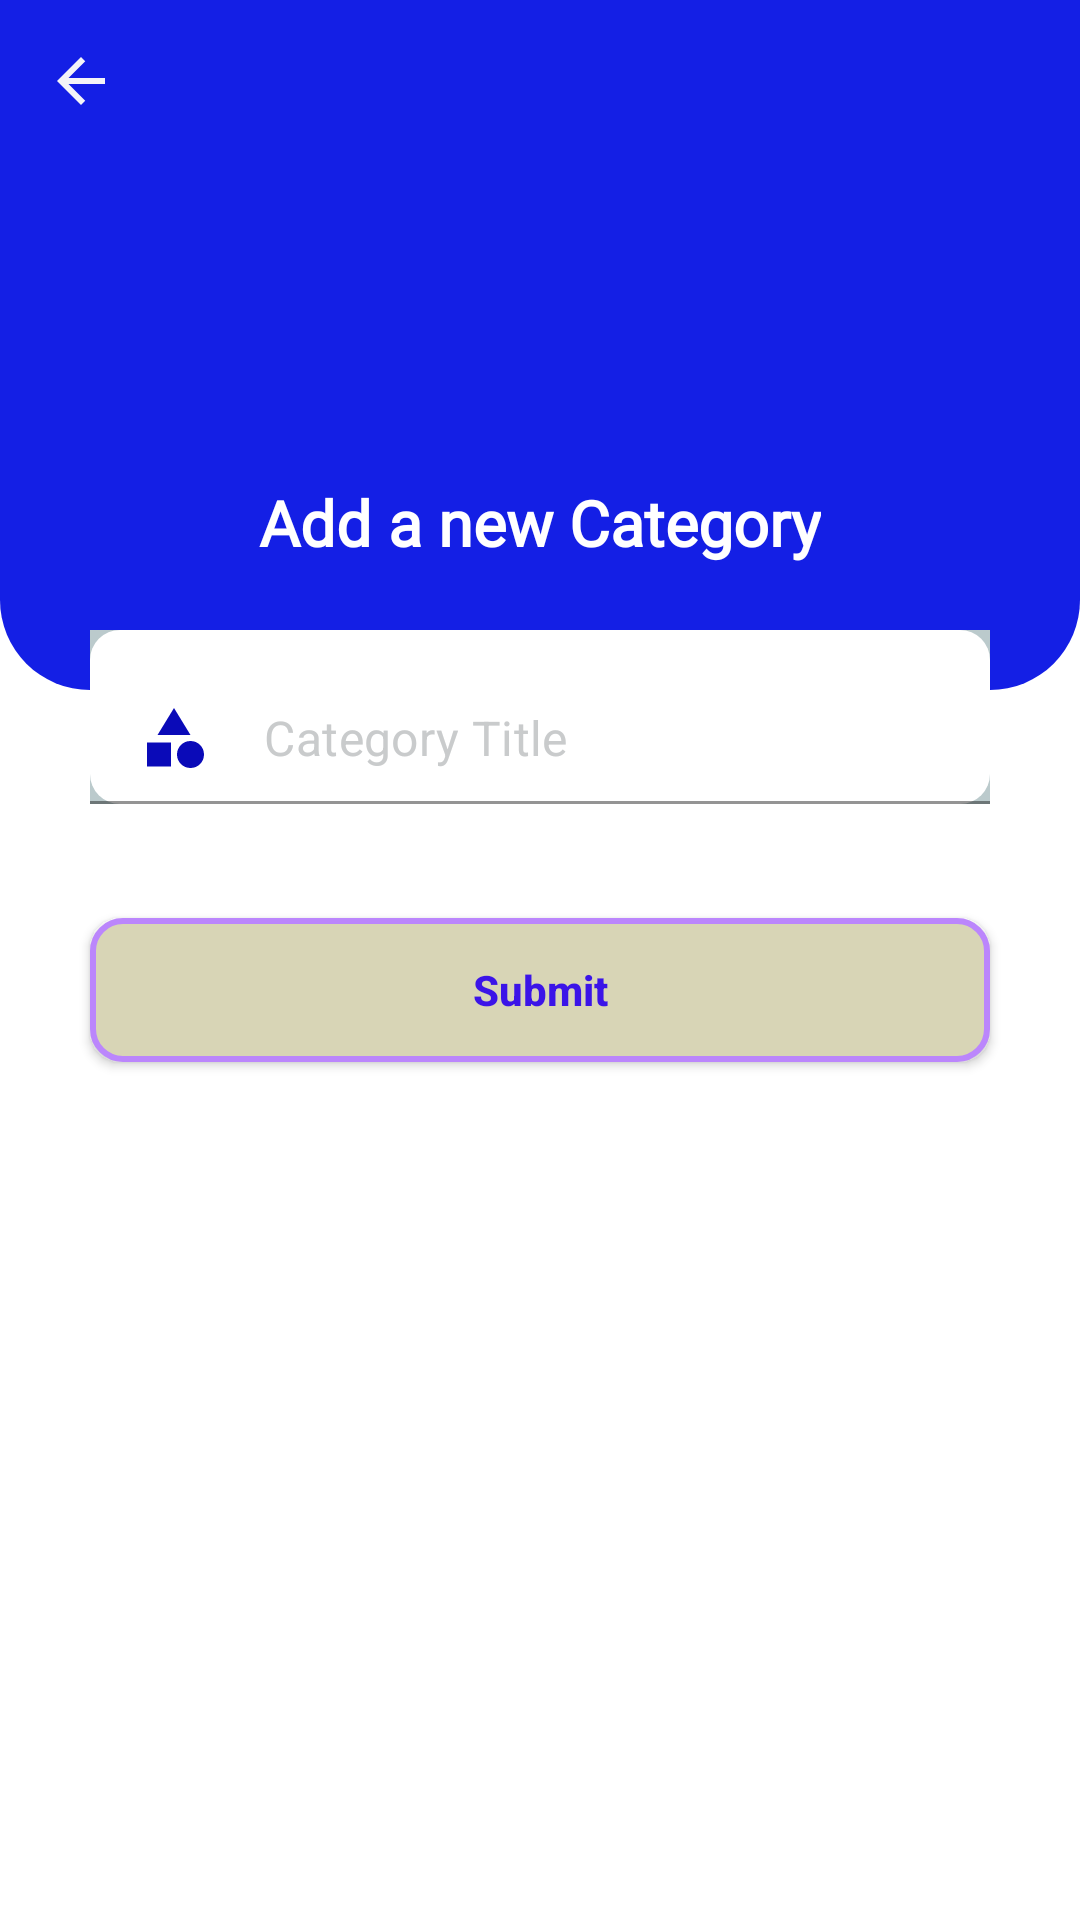

Where icons sit on this 1080×1920 app screen, as (x1, y1, x2, y2):
arrow back: (57, 57, 105, 105)
